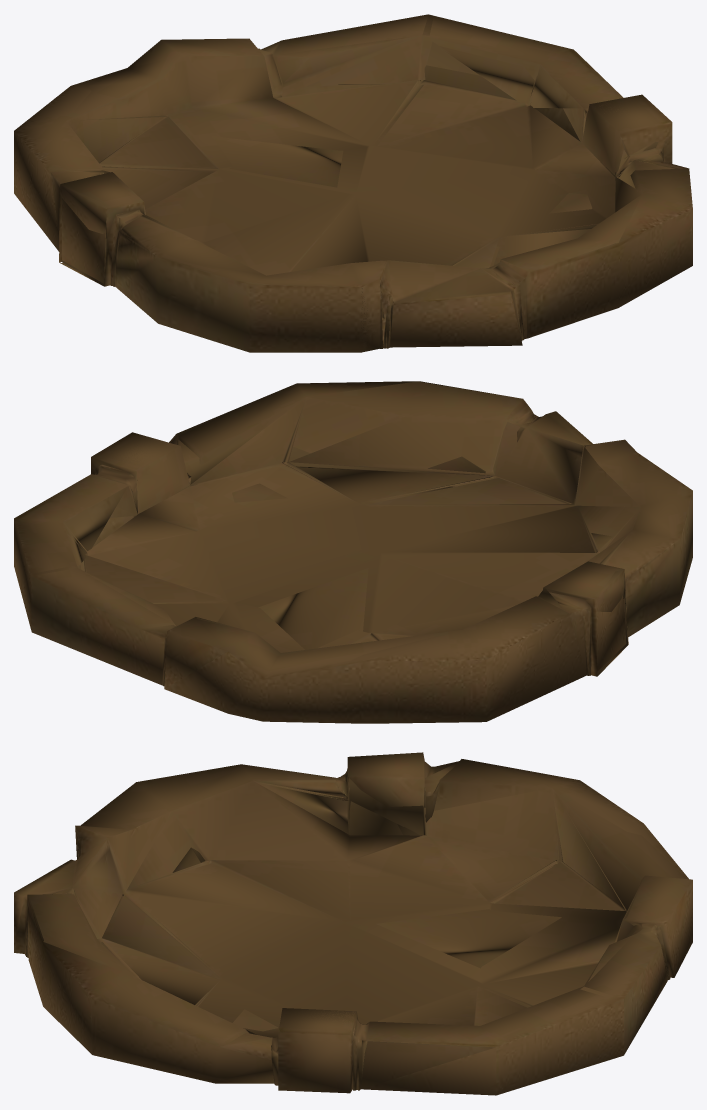
The model's file is 장애물_진흙밭2.glb.
3 renders of one model, top to bottom at view 1: azimuth 30°, elevation 25°; view 2: azimuth 150°, elevation 25°; view 3: azimuth 270°, elevation 25°, orthographic.
Visible parts, largest first — view 1: tripo_node_083f3eb5-4e3f-45df-b1dd-dfbcc7f44db2; view 2: tripo_node_083f3eb5-4e3f-45df-b1dd-dfbcc7f44db2; view 3: tripo_node_083f3eb5-4e3f-45df-b1dd-dfbcc7f44db2.
Part boxes in pixels (left/top/right/bottom): tripo_node_083f3eb5-4e3f-45df-b1dd-dfbcc7f44db2: left=14, top=14, right=692, bottom=352; tripo_node_083f3eb5-4e3f-45df-b1dd-dfbcc7f44db2: left=14, top=381, right=692, bottom=723; tripo_node_083f3eb5-4e3f-45df-b1dd-dfbcc7f44db2: left=14, top=752, right=692, bottom=1095.
Size of the model in its own units: 0.9355 by 0.127 by 0.998.
1 material, 1 textured.
